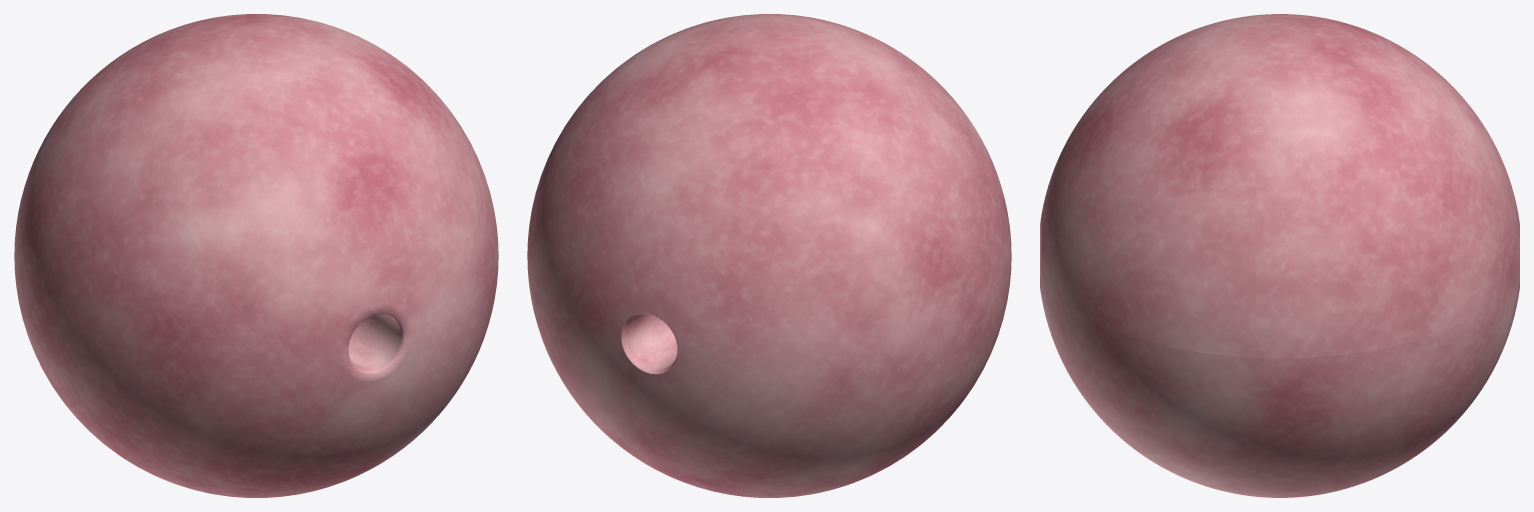
Rendered from rose-quartz.glb.
3 renders of one model, left to right at view 1: azimuth 30°, elevation 25°; view 2: azimuth 150°, elevation 25°; view 3: azimuth 270°, elevation 25°, orthographic.
Visible parts, largest first — view 1: rose-quartz.001; view 2: rose-quartz.001; view 3: rose-quartz.001.
Part boxes in pixels (x1,y1,x2,y2): rose-quartz.001: (14, 14, 498, 497); rose-quartz.001: (527, 14, 1011, 497); rose-quartz.001: (1040, 14, 1519, 497).
Size of the model in its own units: 0.008 by 0.008 by 0.00793.
2 materials, 1 textured.
